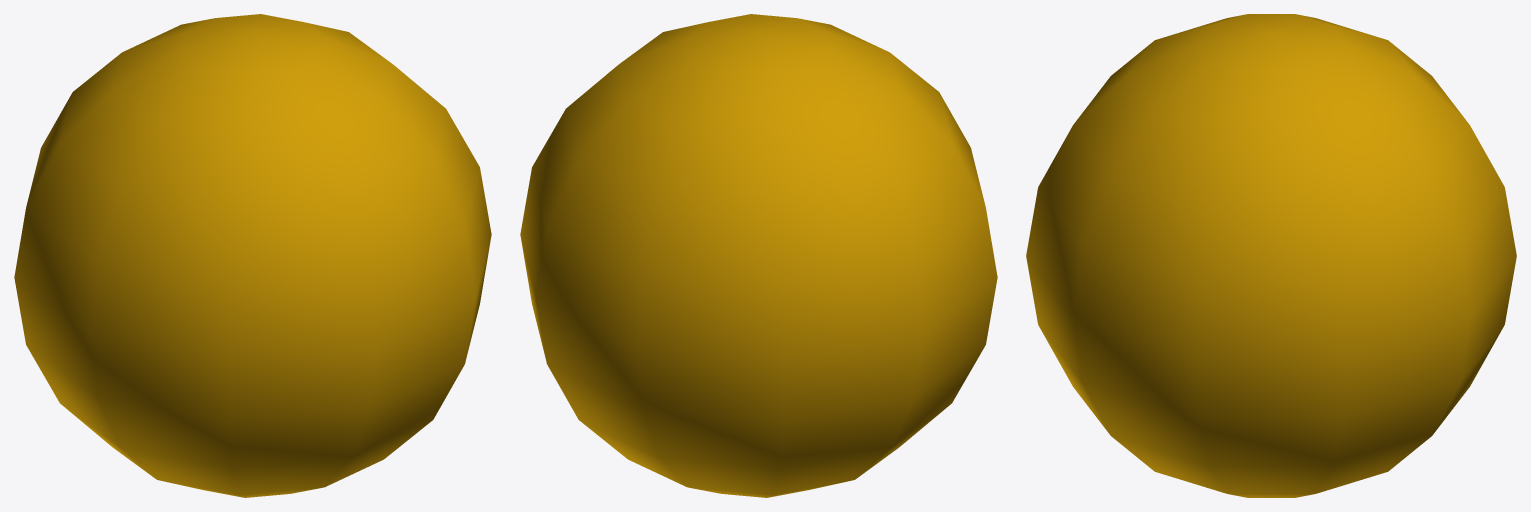
File: sun_sphere.obj
The picture shows the model from 3 angles, left to right: view 1: azimuth 30°, elevation 25°; view 2: azimuth 150°, elevation 25°; view 3: azimuth 270°, elevation 25°; orthographic projection.
Visible parts, largest first — view 1: Sphere; view 2: Sphere; view 3: Sphere.
Boxes of the visible parts, left/top/right/bottom form: Sphere: left=14, top=14, right=491, bottom=497; Sphere: left=520, top=14, right=997, bottom=497; Sphere: left=1026, top=14, right=1516, bottom=497.
Size of the model in its own units: 0.3804 by 0.4 by 0.4.
